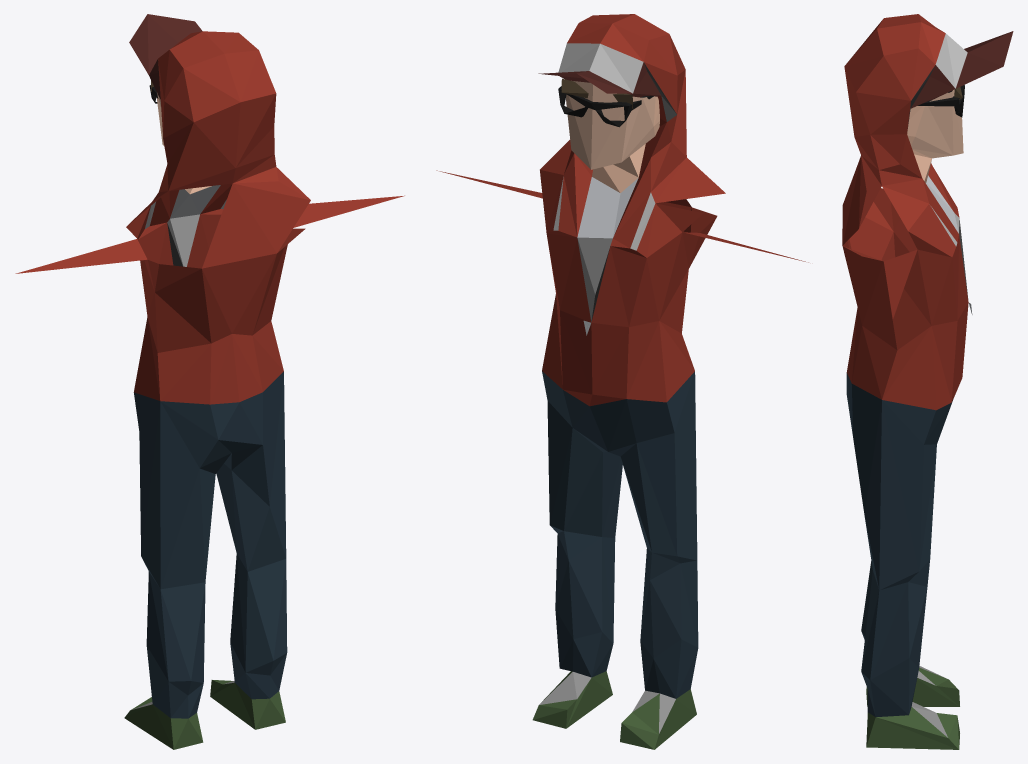
The model's file is Body_Lo.obj.
3 views of the same model, side by side, from view 1: azimuth 30°, elevation 25°; view 2: azimuth 150°, elevation 25°; view 3: azimuth 270°, elevation 25° (orthographic).
Size of the model in its own units: 1.08 by 1.85 by 0.4104.
Materials: 1 (1 with a texture image).
